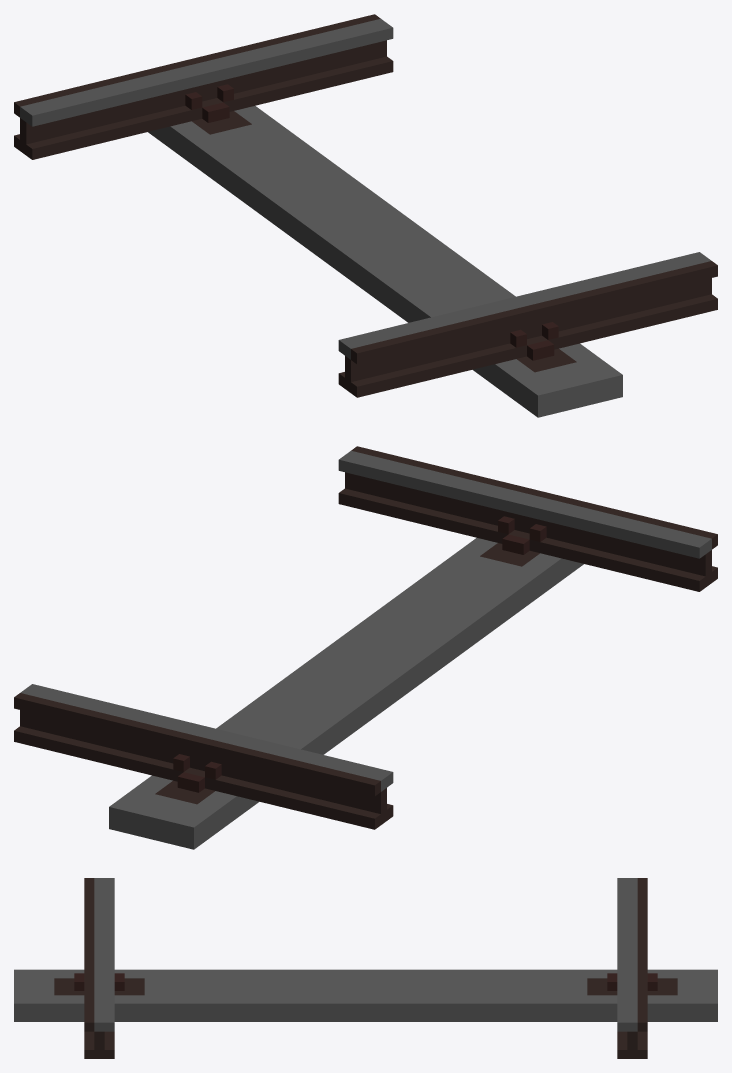
The model's file is tramconcrete.obj.
The picture shows the model from 3 angles, top to bottom: view 1: azimuth 30°, elevation 25°; view 2: azimuth 150°, elevation 25°; view 3: azimuth 270°, elevation 25°; orthographic projection. The views are drawn at different scales.
Visible parts, largest first — view 1: RAIL_BASE_2, RAIL_RIGHT, RAIL_LEFT, RAIL_BASE_1; view 2: RAIL_BASE_2, RAIL_LEFT, RAIL_RIGHT, RAIL_BASE_1; view 3: RAIL_BASE_2, RAIL_RIGHT, RAIL_LEFT, RAIL_BASE_1.
Boxes of the visible parts, bbox=[...] form: RAIL_BASE_2: bbox=[148, 106, 622, 417]; RAIL_RIGHT: bbox=[14, 14, 393, 159]; RAIL_LEFT: bbox=[338, 252, 717, 397]; RAIL_BASE_1: bbox=[185, 84, 558, 360]; RAIL_BASE_2: bbox=[109, 538, 583, 849]; RAIL_LEFT: bbox=[338, 446, 717, 591]; RAIL_RIGHT: bbox=[14, 684, 393, 829]; RAIL_BASE_1: bbox=[173, 516, 546, 792]; RAIL_BASE_2: bbox=[14, 969, 717, 1021]; RAIL_RIGHT: bbox=[617, 878, 647, 1058]; RAIL_LEFT: bbox=[84, 878, 114, 1058]; RAIL_BASE_1: bbox=[74, 973, 657, 990].
Bounding box in the file's own units: 1.06 × 0.1875 × 2.19.
1 material, 1 textured.
